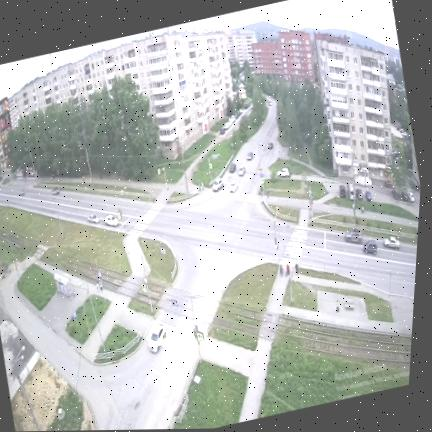bench: (345, 299, 354, 309)
busStop: (54, 273, 75, 299)
busStopSign: (97, 265, 106, 299), (74, 312, 80, 334), (278, 148, 282, 154)
car: (149, 322, 166, 352), (345, 229, 362, 243), (383, 236, 400, 249), (363, 239, 377, 254), (354, 187, 365, 202), (105, 215, 119, 226), (277, 168, 290, 178), (213, 178, 223, 191), (230, 180, 238, 192), (88, 215, 100, 223), (340, 185, 346, 197), (408, 193, 415, 202), (366, 191, 372, 201), (52, 187, 59, 195), (230, 163, 236, 172), (239, 166, 245, 175), (247, 152, 253, 160), (268, 142, 273, 149)
human: (99, 282, 104, 291), (266, 189, 271, 198), (295, 263, 299, 273), (336, 300, 339, 313), (96, 283, 100, 291), (280, 266, 283, 276), (287, 264, 290, 274), (202, 182, 204, 190), (362, 205, 364, 212), (199, 185, 201, 191)
lightPole: (79, 145, 94, 186), (182, 151, 189, 193), (352, 183, 356, 222), (58, 214, 61, 226)
pedestianCross: (147, 320, 197, 357), (280, 226, 309, 267), (130, 204, 164, 235), (205, 188, 260, 204)
sign: (186, 369, 191, 375), (165, 259, 167, 270)
trafficLight: (192, 304, 204, 361), (116, 187, 127, 231), (142, 277, 153, 312), (158, 167, 169, 199), (208, 154, 219, 184), (259, 155, 265, 202), (274, 214, 278, 263), (309, 188, 313, 221)
truck: (347, 182, 354, 200)
